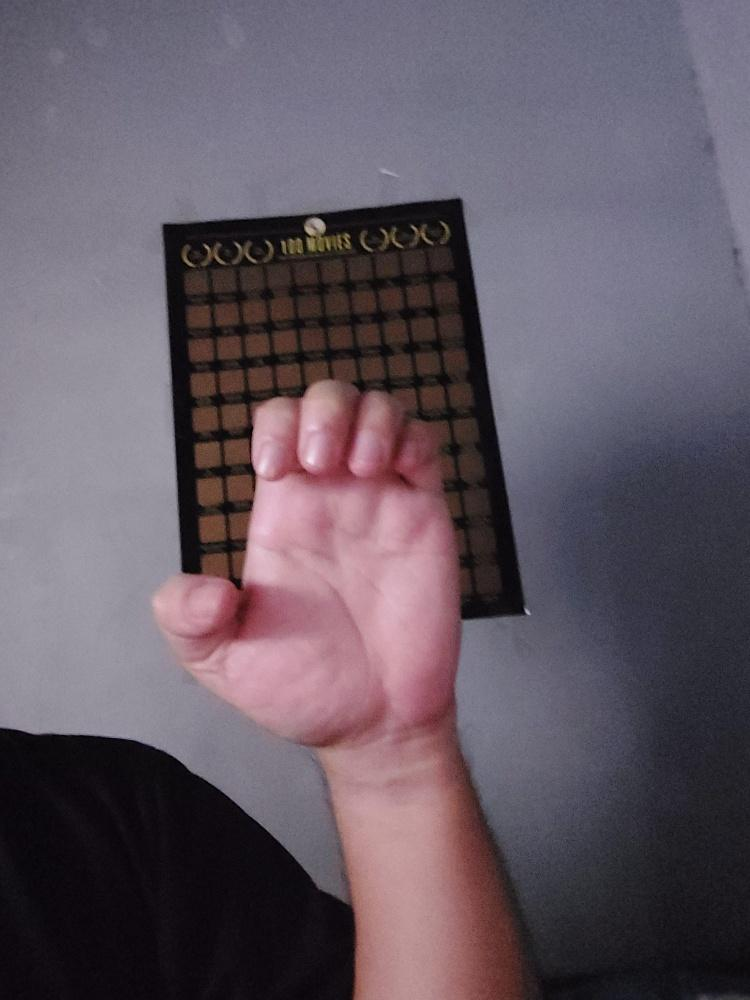e: (150, 372, 469, 747)
